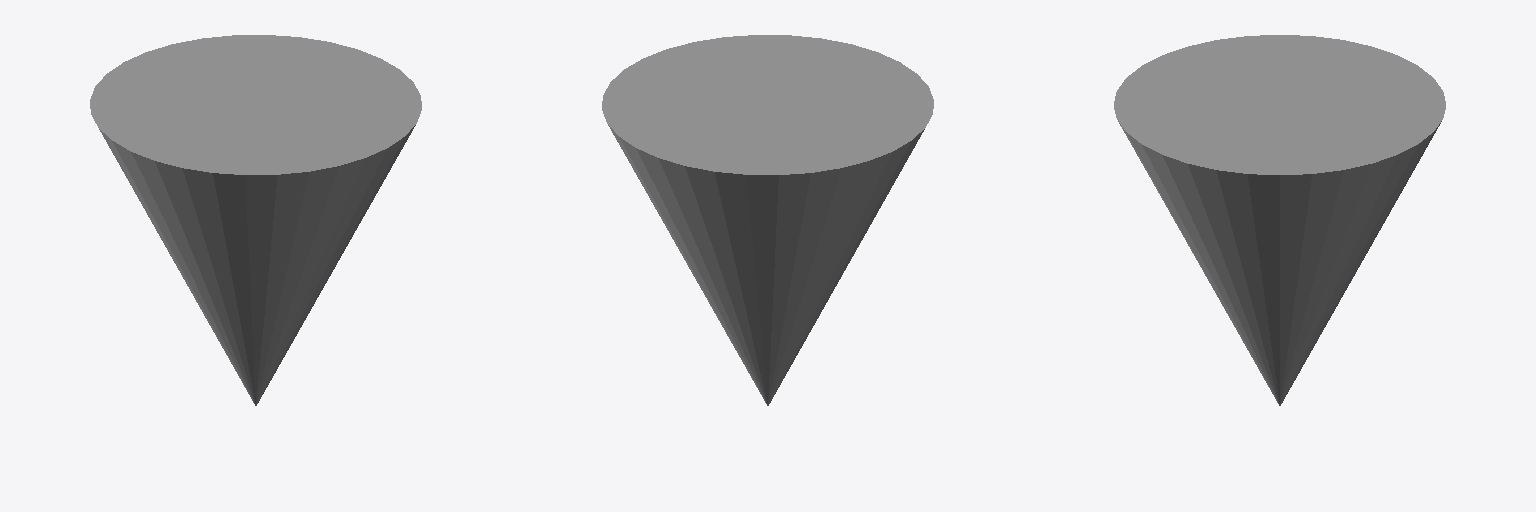
The model's file is light3.obj.
3 views of the same model, side by side, from view 1: azimuth 30°, elevation 25°; view 2: azimuth 150°, elevation 25°; view 3: azimuth 270°, elevation 25° (orthographic).
Visible parts, largest first — view 1: Cone.001; view 2: Cone.001; view 3: Cone.001.
Part boxes in pixels (bbox=[...]): Cone.001: bbox=[90, 35, 421, 405]; Cone.001: bbox=[602, 35, 933, 405]; Cone.001: bbox=[1114, 35, 1445, 405].
Bounding box in the file's own units: 0.9578 × 0.9578 × 0.9578.